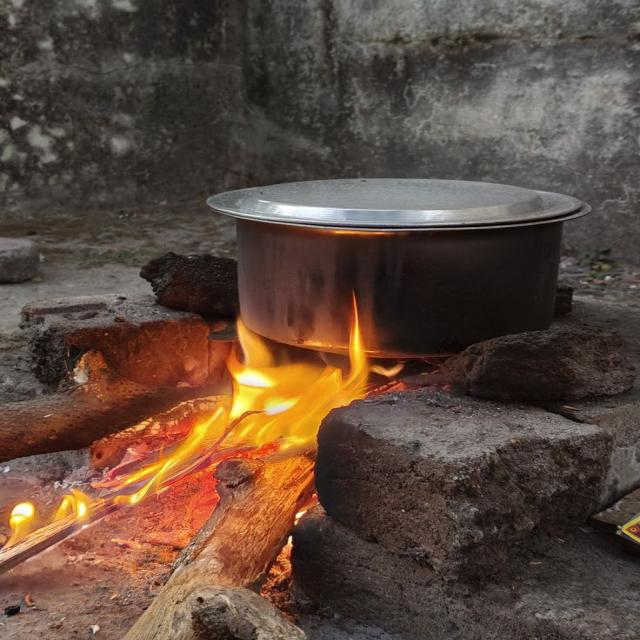fire: (224, 363, 368, 452), (115, 407, 223, 506), (349, 290, 368, 399), (236, 316, 274, 367), (2, 501, 35, 551), (53, 487, 92, 520)
